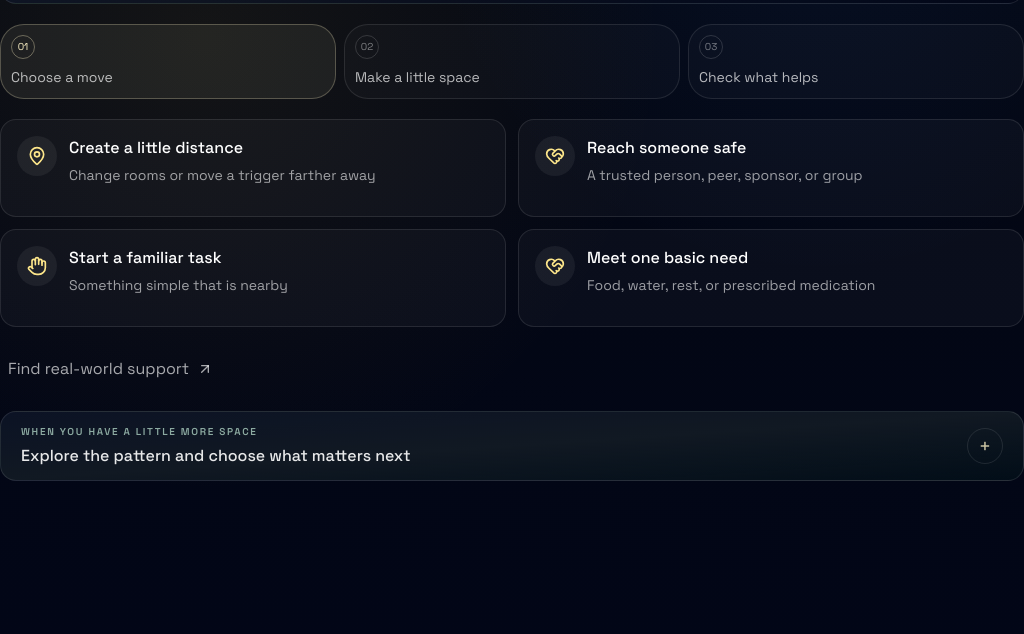
Test: UrgeSurfingTool › keeps the chosen move available when the optional Compass request fails
Click the text "Explore the pattern and choose what matters next" at (216, 456), box [21,444,411,468]
(page scrolled)
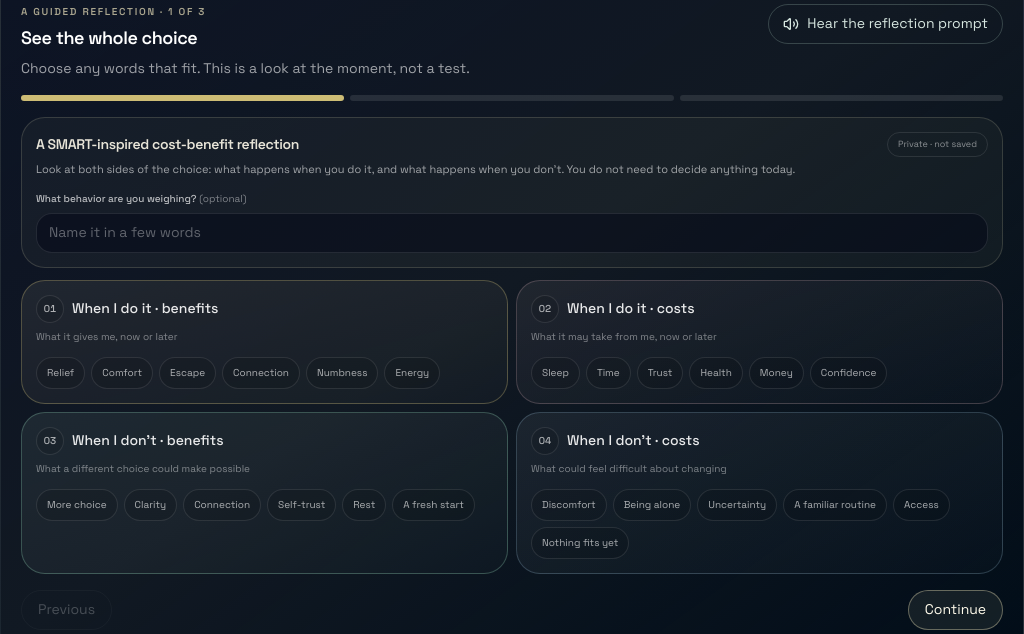
Click the button "Continue" at (955, 610), box [908,590,1003,630]
(page scrolled)
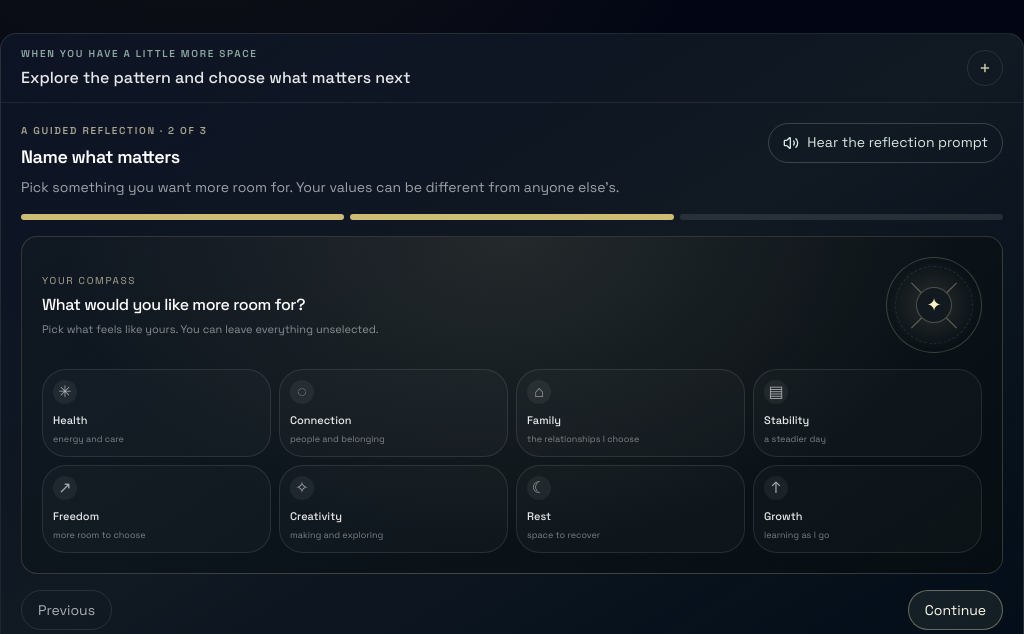
Click the button "☾ Rest space to recover" at (630, 509), box [516,465,745,553]
(page scrolled)
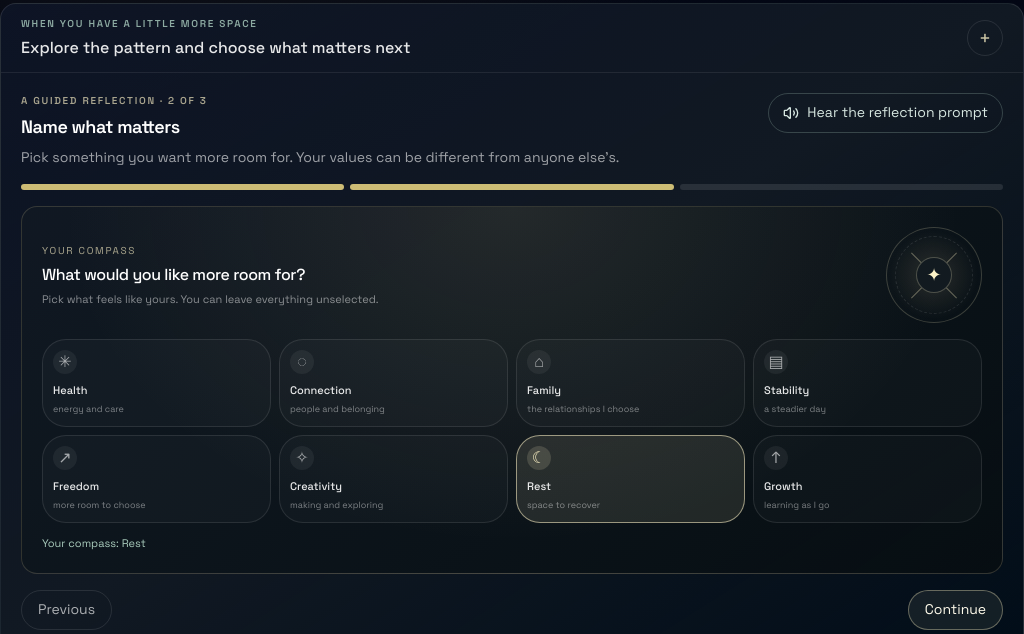
Click the button "Continue" at (955, 610), box [908,590,1003,630]
(page scrolled)
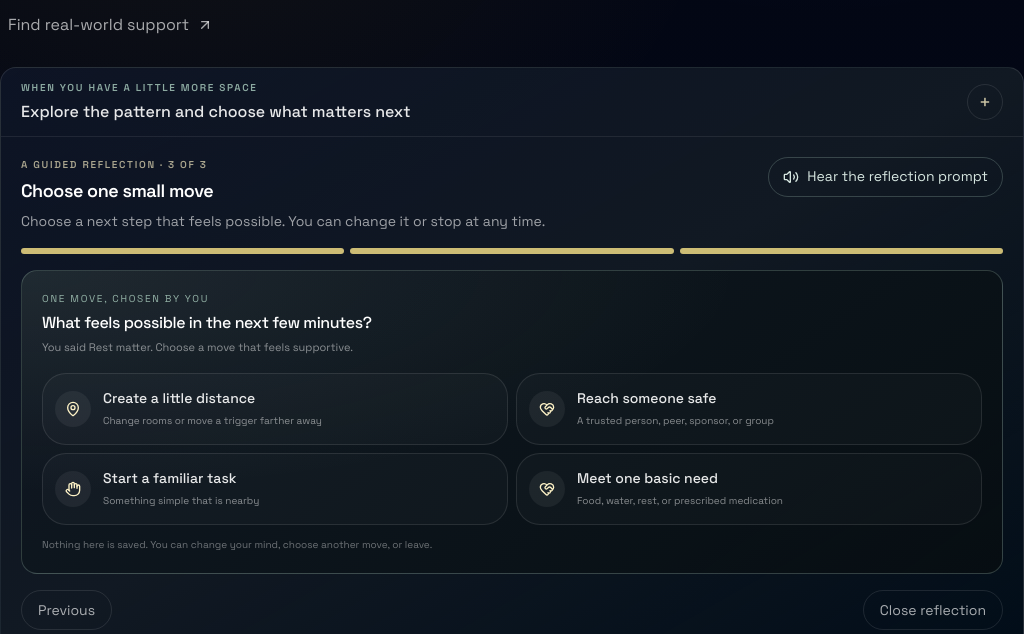
Click the button "Start a familiar task Something simple that is nearby" below "One move, chosen by you" at (73, 489), box [42,453,508,525]
(page scrolled)
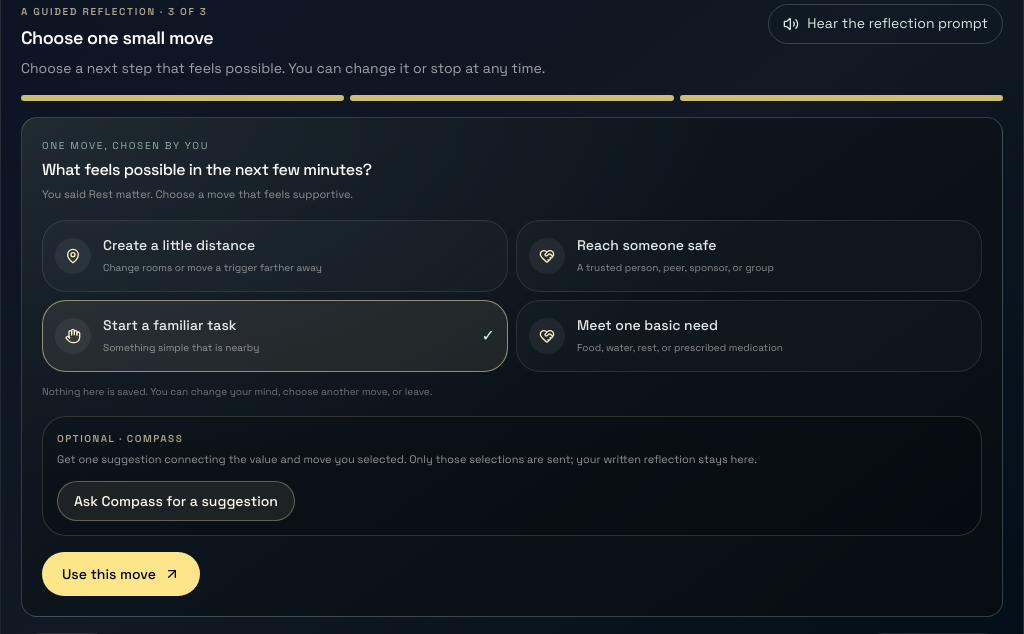
Click the button "Ask Compass for a suggestion" at (176, 501), box [57,481,295,521]
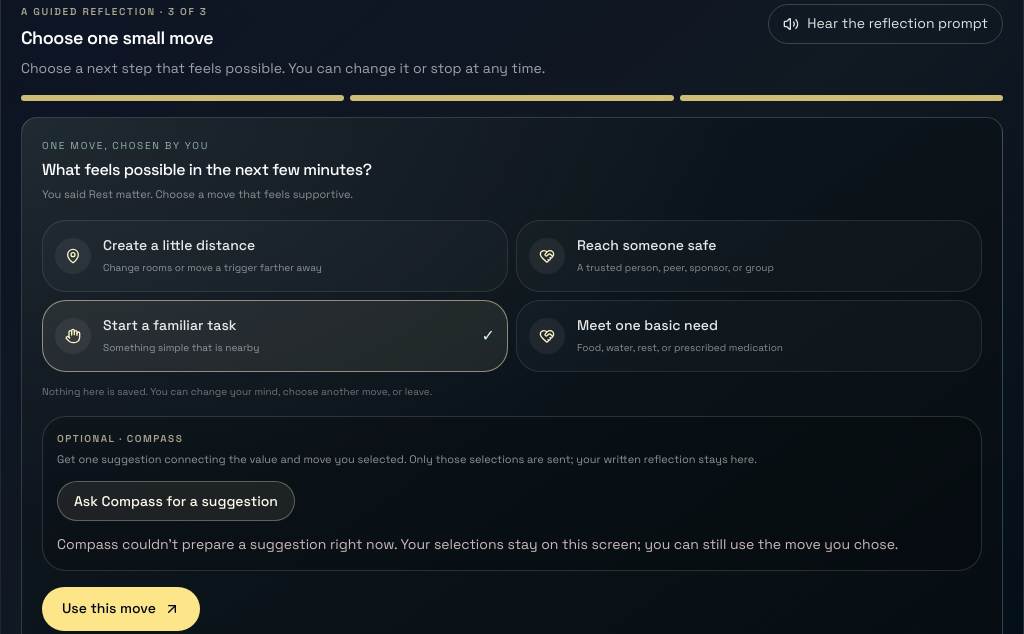
Check: the button "Use this move" is enabled, box [42,587,200,631]
Check: the message shows "Compass couldn’t prepare a suggestion right now", box [57,535,898,553]
